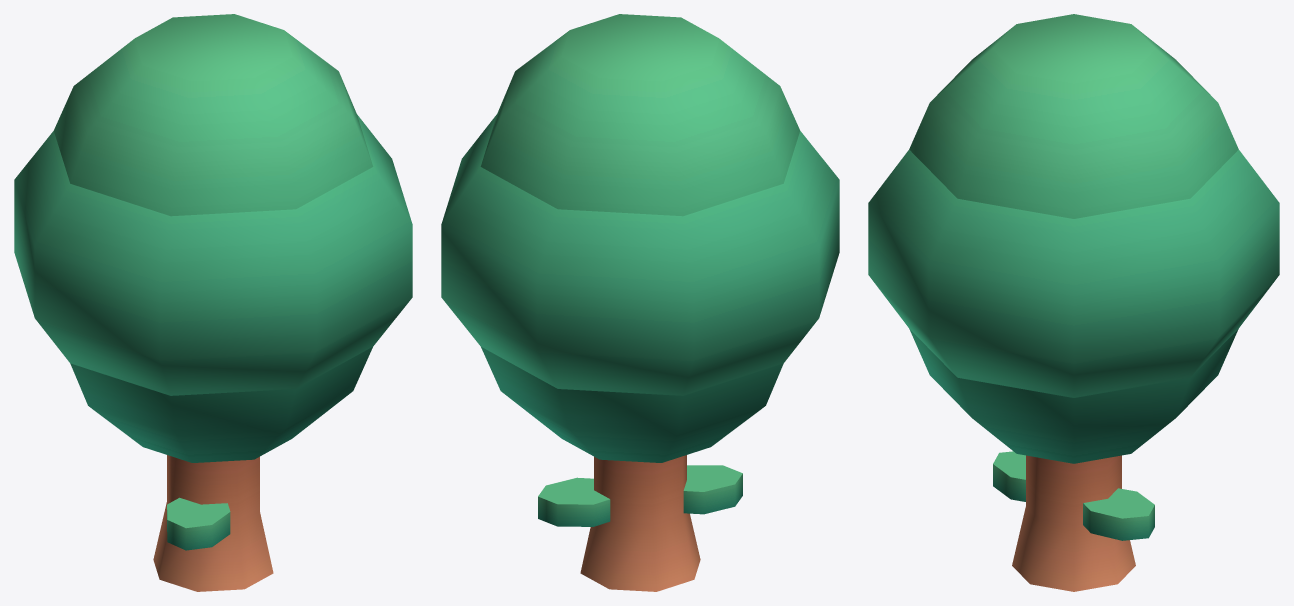
The model's file is tree.glb.
3 views of the same model, side by side, from view 1: azimuth 30°, elevation 25°; view 2: azimuth 150°, elevation 25°; view 3: azimuth 270°, elevation 25° (orthographic).
Parts seen in each view (by area): view 1: tree; view 2: tree; view 3: tree.
Boxes of the visible parts, bbox=[...] form: tree: bbox=[14, 14, 412, 591]; tree: bbox=[441, 14, 839, 591]; tree: bbox=[868, 14, 1279, 591].
Bounding box in the file's own units: 0.8551 × 1.19 × 0.8551.
1 material, 1 textured.
